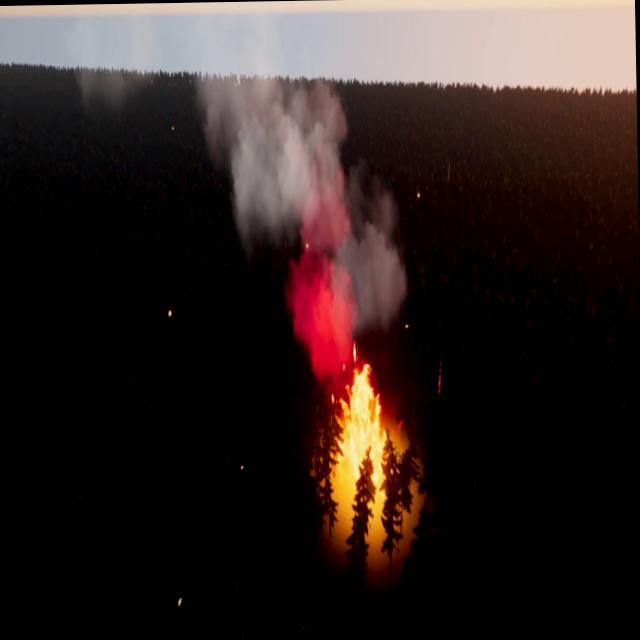fire: (330, 358, 400, 501)
smoke: (197, 66, 406, 368)
